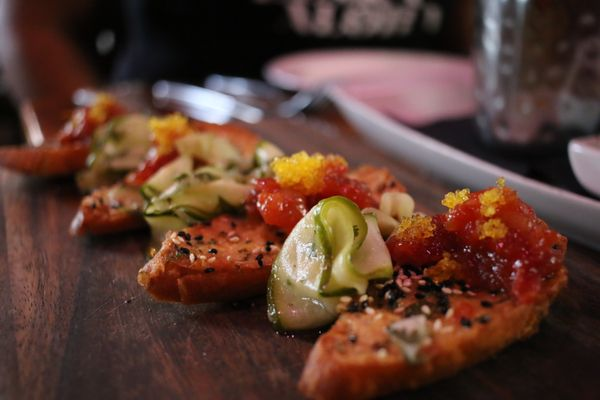pizza: (470, 0, 600, 157)
